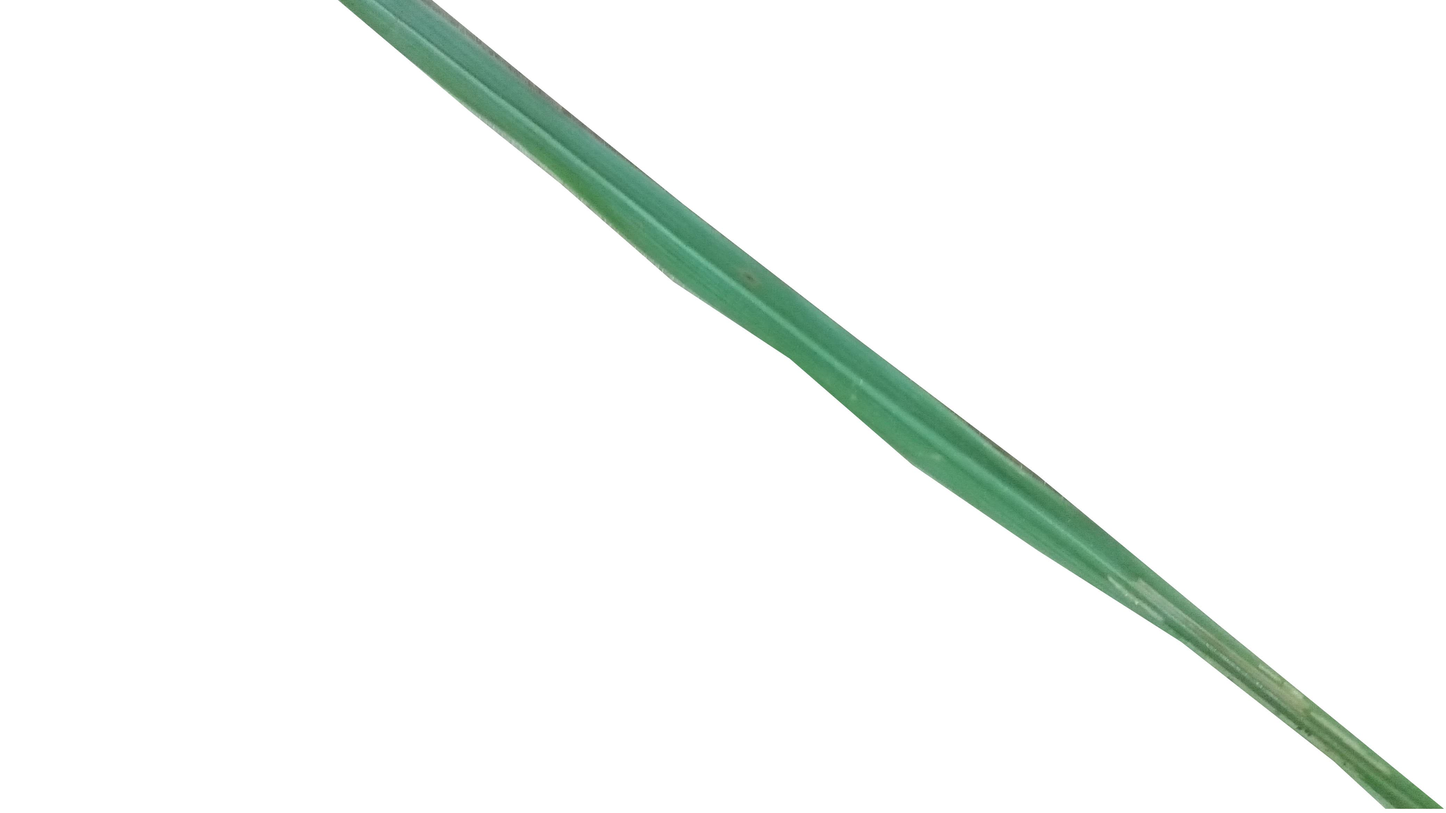Rice blast: (730, 257, 775, 301)
